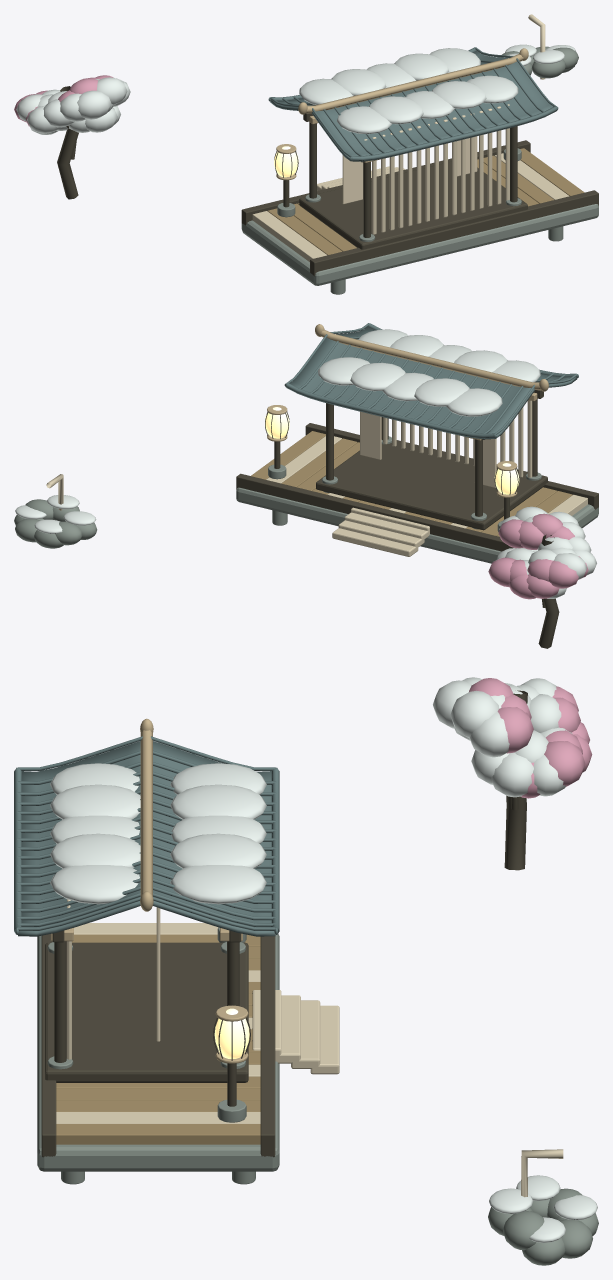
Rendered from onsen.glb.
The picture shows the model from 3 angles, top to bottom: view 1: azimuth 30°, elevation 25°; view 2: azimuth 150°, elevation 25°; view 3: azimuth 270°, elevation 25°; orthographic projection. The views are drawn at different scales.
Parts seen in each view (by area): view 1: Hinoki bath house raised sill, Hinoki bath house0 roof shell, Foundation stone, Mortised deck edge, Hinoki bath house0 ridge, Individual deck plank, Hinoki bath house0 rolled eave, Settled roof snow, Settled roof snow.001, Settled roof snow.003, Mortised deck edge.001, Settled roof snow.006 (+38 smaller); view 2: Hinoki bath house raised sill, Hinoki bath house0 roof shell, Mortised deck edge.001, Foundation stone, Hinoki bath house0 ridge, Hinoki bath house0 rolled eave.001, Settled roof snow.005, Settled roof snow.006, Settled roof snow.008, Cedar approach step.003, Settled roof snow.009, Paper changing screen.001 (+32 smaller); view 3: Hinoki bath house raised sill, Hinoki bath house0 roof shell, Foundation stone, Individual deck plank.017, Mortised deck edge.001, Settled roof snow.009, Settled roof snow.004, Settled roof snow.006, Settled roof snow.008, Settled roof snow.001, Individual deck plank.014, Settled roof snow.003 (+38 smaller).
Boxes of the visible parts, x1=… form: Hinoki bath house raised sill: x1=299, y1=161, x2=527, y2=249; Hinoki bath house0 roof shell: x1=270, y1=50, x2=556, y2=161; Foundation stone: x1=241, y1=204, x2=598, y2=285; Mortised deck edge: x1=310, y1=190, x2=598, y2=276; Hinoki bath house0 ridge: x1=306, y1=54, x2=523, y2=113; Individual deck plank: x1=252, y1=211, x2=326, y2=261; Hinoki bath house0 rolled eave: x1=351, y1=106, x2=557, y2=161; Settled roof snow: x1=337, y1=106, x2=391, y2=134; Settled roof snow.001: x1=369, y1=96, x2=423, y2=124; Settled roof snow.003: x1=432, y1=81, x2=486, y2=108; Mortised deck edge.001: x1=241, y1=140, x2=530, y2=225; Settled roof snow.006: x1=331, y1=69, x2=386, y2=95; Hinoki bath house raised sill: x1=316, y1=440, x2=547, y2=530; Hinoki bath house0 roof shell: x1=287, y1=326, x2=577, y2=439; Mortised deck edge.001: x1=236, y1=473, x2=513, y2=551; Foundation stone: x1=236, y1=487, x2=598, y2=563; Hinoki bath house0 ridge: x1=320, y1=330, x2=540, y2=390; Hinoki bath house0 rolled eave.001: x1=286, y1=383, x2=494, y2=438; Settled roof snow.005: x1=446, y1=388, x2=502, y2=416; Settled roof snow.006: x1=414, y1=378, x2=469, y2=406; Settled roof snow.008: x1=350, y1=362, x2=405, y2=391; Cedar approach step.003: x1=332, y1=528, x2=418, y2=556; Settled roof snow.009: x1=318, y1=357, x2=369, y2=385; Paper changing screen.001: x1=360, y1=411, x2=381, y2=459; Hinoki bath house raised sill: x1=45, y1=942, x2=248, y2=1082; Hinoki bath house0 roof shell: x1=18, y1=741, x2=275, y2=936; Foundation stone: x1=37, y1=934, x2=279, y2=1171; Individual deck plank.017: x1=56, y1=1124, x2=260, y2=1144; Mortised deck edge.001: x1=260, y1=936, x2=275, y2=1157; Settled roof snow.009: x1=170, y1=865, x2=266, y2=904; Settled roof snow.004: x1=50, y1=865, x2=139, y2=904; Settled roof snow.006: x1=170, y1=784, x2=266, y2=819; Settled roof snow.008: x1=170, y1=833, x2=266, y2=868; Settled roof snow.001: x1=50, y1=784, x2=140, y2=819; Individual deck plank.014: x1=56, y1=1088, x2=260, y2=1100; Settled roof snow.003: x1=50, y1=833, x2=140, y2=868.
Bounding box in the file's own units: 5.34 × 1.6 × 3.02.
